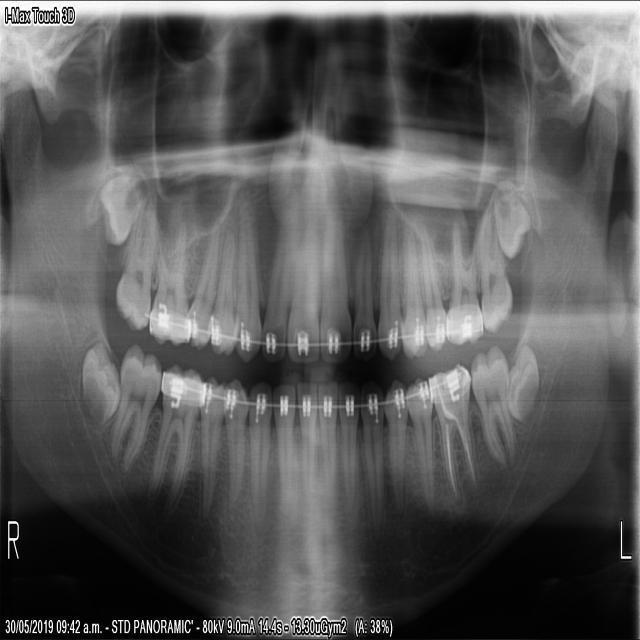LCD: (361, 385, 386, 549)
LCU: (377, 205, 402, 362)
LID: (316, 374, 338, 518), (339, 377, 360, 520)
LIU: (318, 195, 352, 364), (351, 218, 377, 363)
LMD: (429, 360, 482, 505), (470, 343, 520, 477), (504, 339, 541, 430)
LMU: (446, 197, 484, 349), (477, 207, 515, 340), (493, 179, 535, 262)
LPMD: (404, 370, 434, 520), (385, 372, 408, 519)
LPMU: (400, 203, 429, 363), (417, 210, 447, 354)
RCD: (249, 379, 274, 534)
RCU: (233, 195, 260, 362)
RID: (270, 378, 296, 515), (297, 378, 318, 519)
RIU: (284, 200, 321, 368), (261, 197, 293, 365)
RMD: (143, 365, 203, 537), (105, 340, 163, 474), (80, 340, 120, 429)
RMU: (114, 192, 159, 335), (149, 202, 190, 347), (96, 169, 141, 249)
RPMD: (198, 375, 225, 523), (225, 375, 249, 514)
RPMU: (186, 205, 222, 353), (208, 198, 236, 362)
